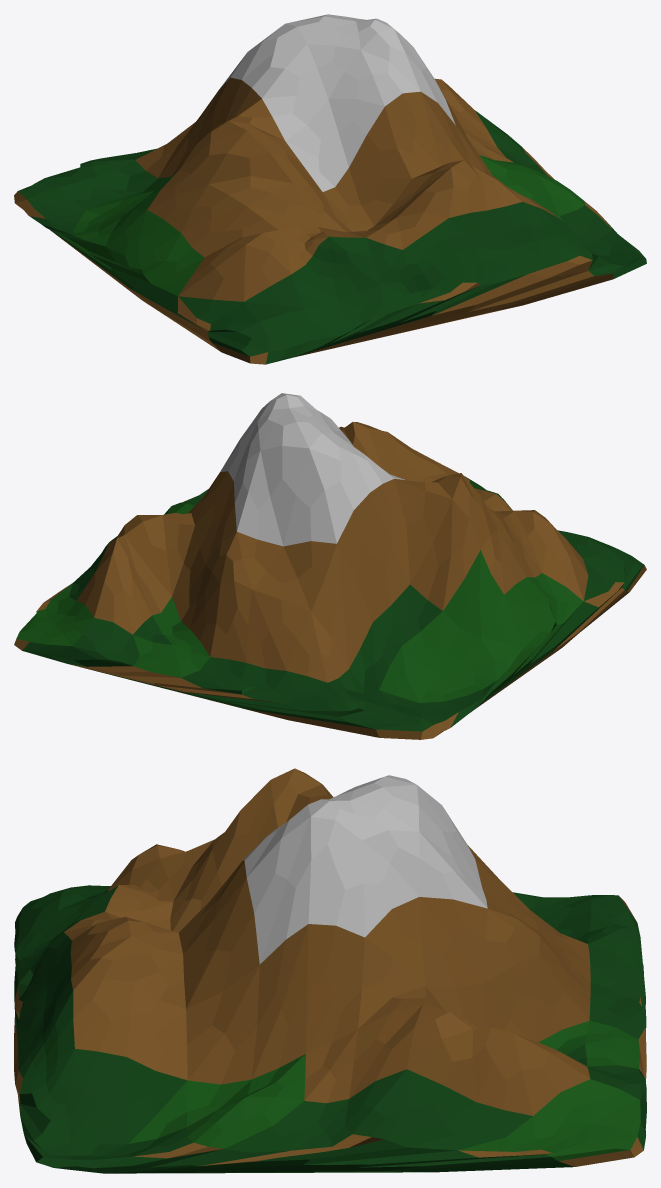
Rendered from _and4.fbx.
The picture shows the model from 3 angles, top to bottom: view 1: azimuth 30°, elevation 25°; view 2: azimuth 150°, elevation 25°; view 3: azimuth 270°, elevation 25°; orthographic projection. The views are drawn at different scales.
Parts seen in each view (by area): view 1: Land1; view 2: Land1; view 3: Land1.
Part boxes in pixels (left/top/right/bottom): Land1: left=14, top=14, right=646, bottom=364; Land1: left=14, top=393, right=646, bottom=739; Land1: left=14, top=768, right=646, bottom=1173.
Size of the model in its own units: 10039 by 4876 by 9967.
